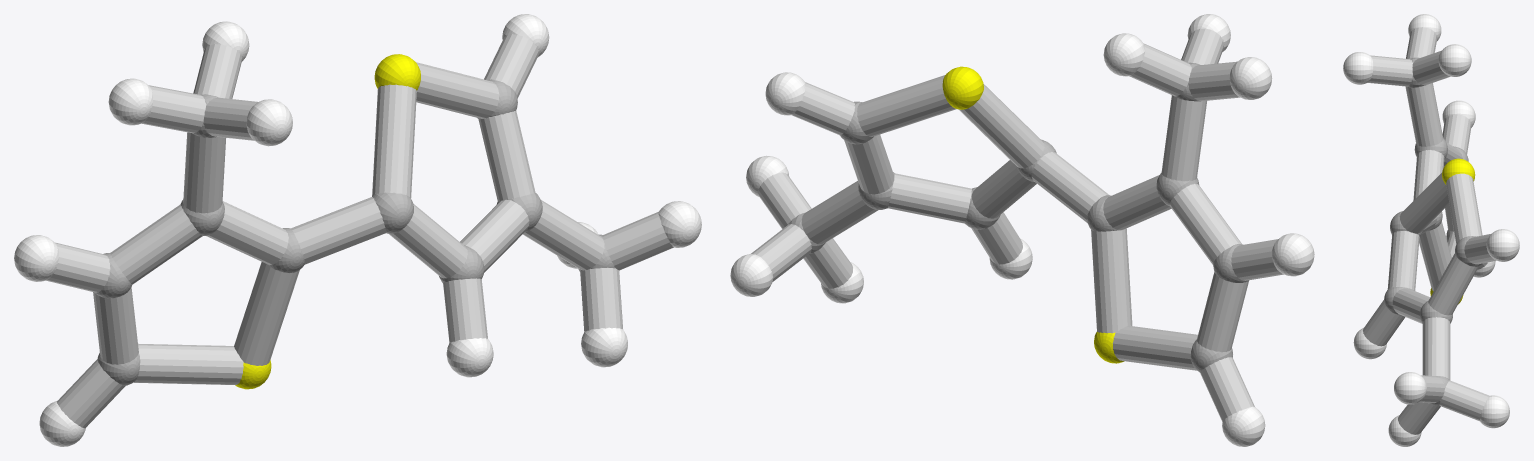
File: Methylthiophene_Phi_40_Theta_330_Methylthiophene.glb
3 views of the same model, side by side, from view 1: azimuth 30°, elevation 25°; view 2: azimuth 150°, elevation 25°; view 3: azimuth 270°, elevation 25° (orthographic). The views are drawn at different scales.
Parts seen in each view (by area): view 1: grp7965, grp3621, grp1, grp7241; view 2: grp7965, grp3621, grp1, grp7241; view 3: grp7965, grp3621, grp1, grp7241.
Boxes of the visible parts, bbox=[...] form: grp7965: bbox=[45, 34, 673, 428]; grp3621: bbox=[14, 14, 701, 446]; grp1: bbox=[94, 79, 615, 385]; grp7241: bbox=[235, 54, 420, 389]; grp7965: bbox=[751, 28, 1283, 421]; grp3621: bbox=[730, 14, 1314, 446]; grp1: bbox=[788, 62, 1248, 372]; grp7241: bbox=[942, 66, 1124, 363]; grp7965: bbox=[1363, 27, 1496, 434]; grp3621: bbox=[1343, 14, 1519, 446]; grp1: bbox=[1384, 57, 1482, 406]; grp7241: bbox=[1430, 158, 1475, 304].
Bounding box in the file's own units: 9.52 × 5.61 × 3.19.
